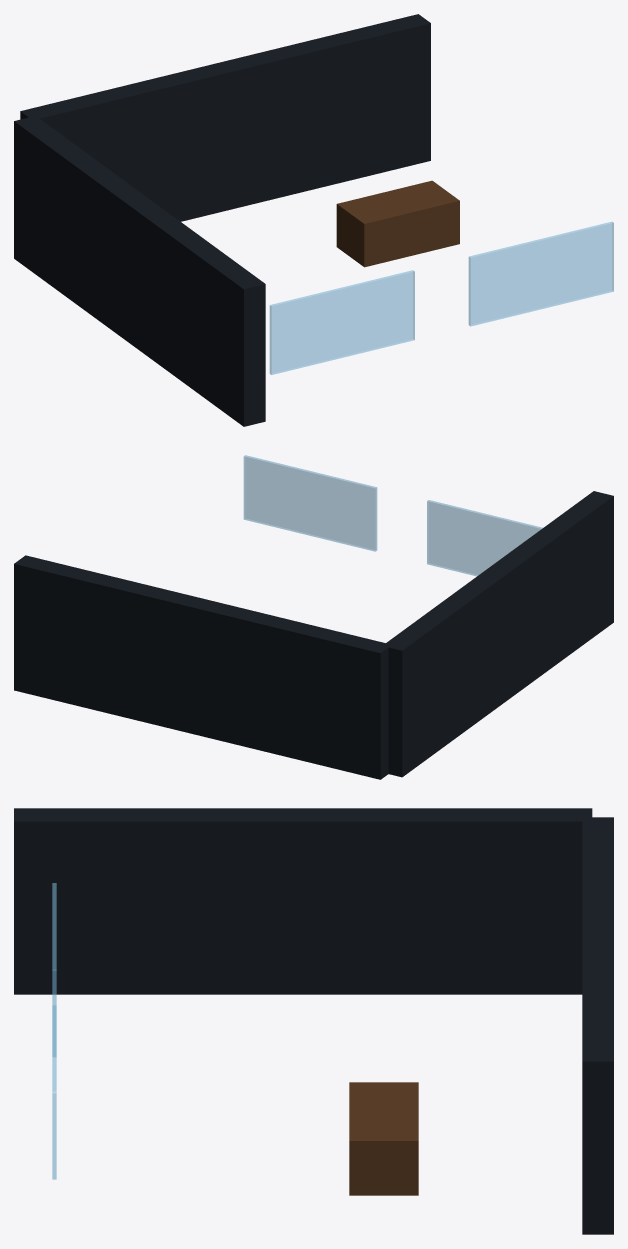
Rendered from module.windowed_office_row.glb.
3 renders of one model, top to bottom at view 1: azimuth 30°, elevation 25°; view 2: azimuth 150°, elevation 25°; view 3: azimuth 270°, elevation 25°, orthographic. The views are drawn at different scales.
Parts seen in each view (by area): view 1: office_back_wall, office_left_wall, front_glass_a, front_glass_b, office_desk; view 2: office_back_wall, office_left_wall, front_glass_b, front_glass_a; view 3: office_left_wall, office_back_wall, office_desk, front_glass_b, front_glass_a.
Part boxes in pixels (x1,y1,x2,y2): office_back_wall: (20,14,430,221); office_left_wall: (14,116,265,426); front_glass_a: (269,270,414,374); front_glass_b: (468,221,613,326); office_desk: (336,180,459,267); office_back_wall: (14,555,391,779); office_left_wall: (386,491,613,777); front_glass_b: (243,455,377,551); front_glass_a: (427,500,542,576); office_left_wall: (14,808,592,994); office_back_wall: (582,817,613,1234); office_desk: (349,1082,418,1195); front_glass_b: (52,1005,56,1179); front_glass_a: (52,883,56,1056).
Bounding box in the file's own units: 10.38 × 3.3 × 10.38.
